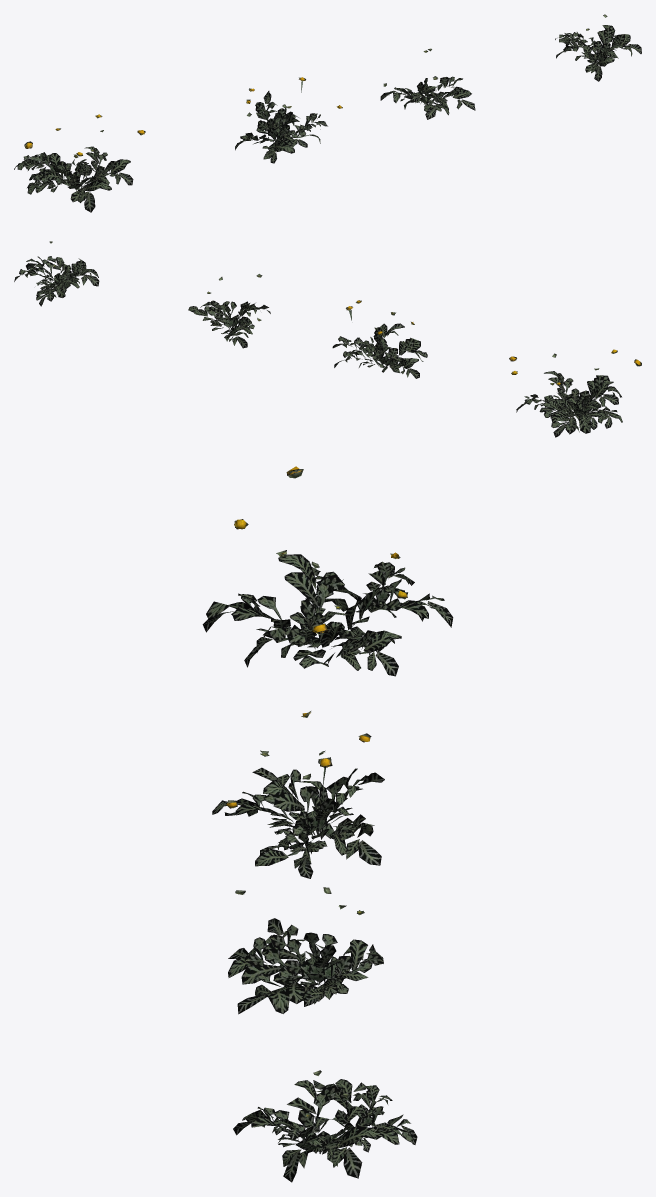
Rendered from flower_stinkkruid.glb.
3 renders of one model, top to bottom at view 1: azimuth 30°, elevation 25°; view 2: azimuth 150°, elevation 25°; view 3: azimuth 270°, elevation 25°, orthographic. The views are drawn at different scales.
Visible parts, largest first — view 1: flower_stinkkruid_a_LOD0; view 2: flower_stinkkruid_a_LOD0; view 3: flower_stinkkruid_a_LOD0.
Part boxes in pixels (<box>): flower_stinkkruid_a_LOD0: <box>14,14,641,212</box>; flower_stinkkruid_a_LOD0: <box>14,241,641,437</box>; flower_stinkkruid_a_LOD0: <box>202,466,453,1182</box>.
Size of the model in its own units: 1.71 by 0.1762 by 0.3005.
Materials: 1 (1 with a texture image).
